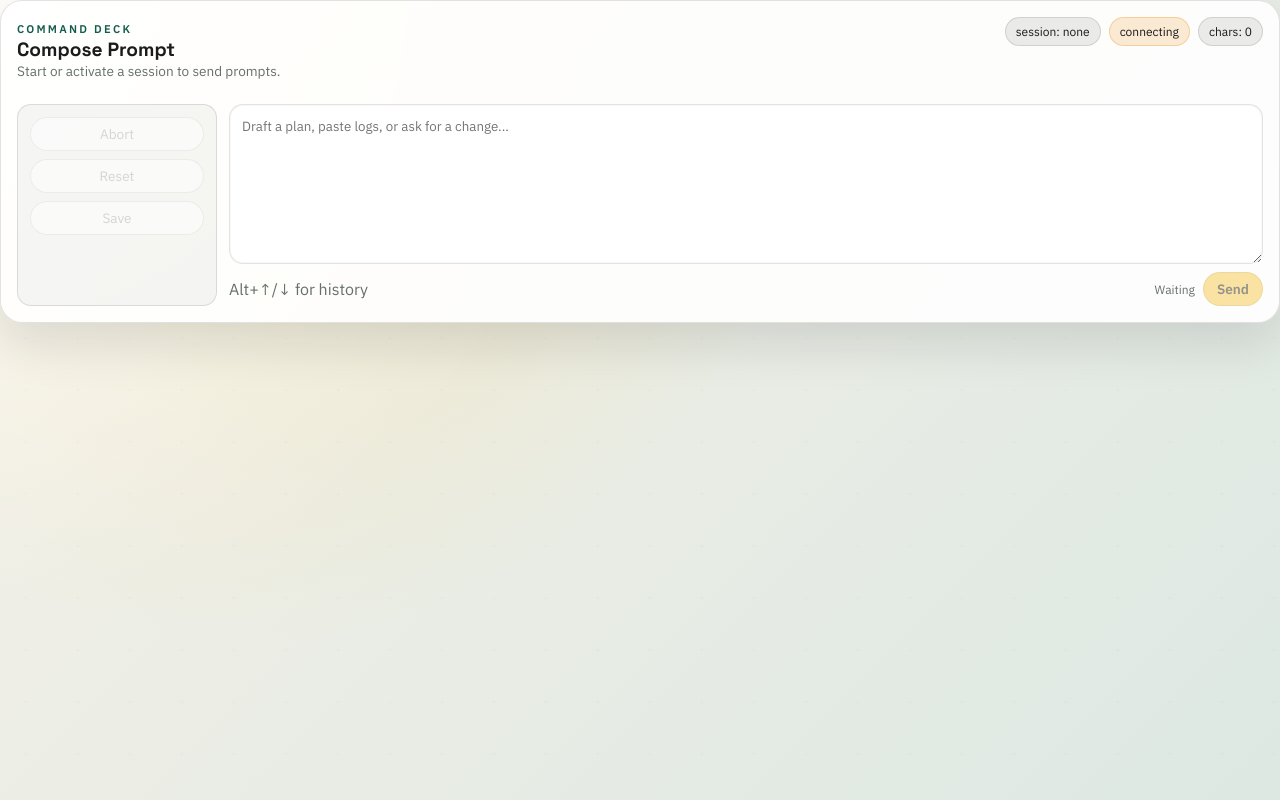
Test: Composer › text input handling › handles special characters in input
Click the text box with placeholder "Draft a plan, paste logs, or ask for a change..." at (746, 184), box [229, 104, 1263, 264]
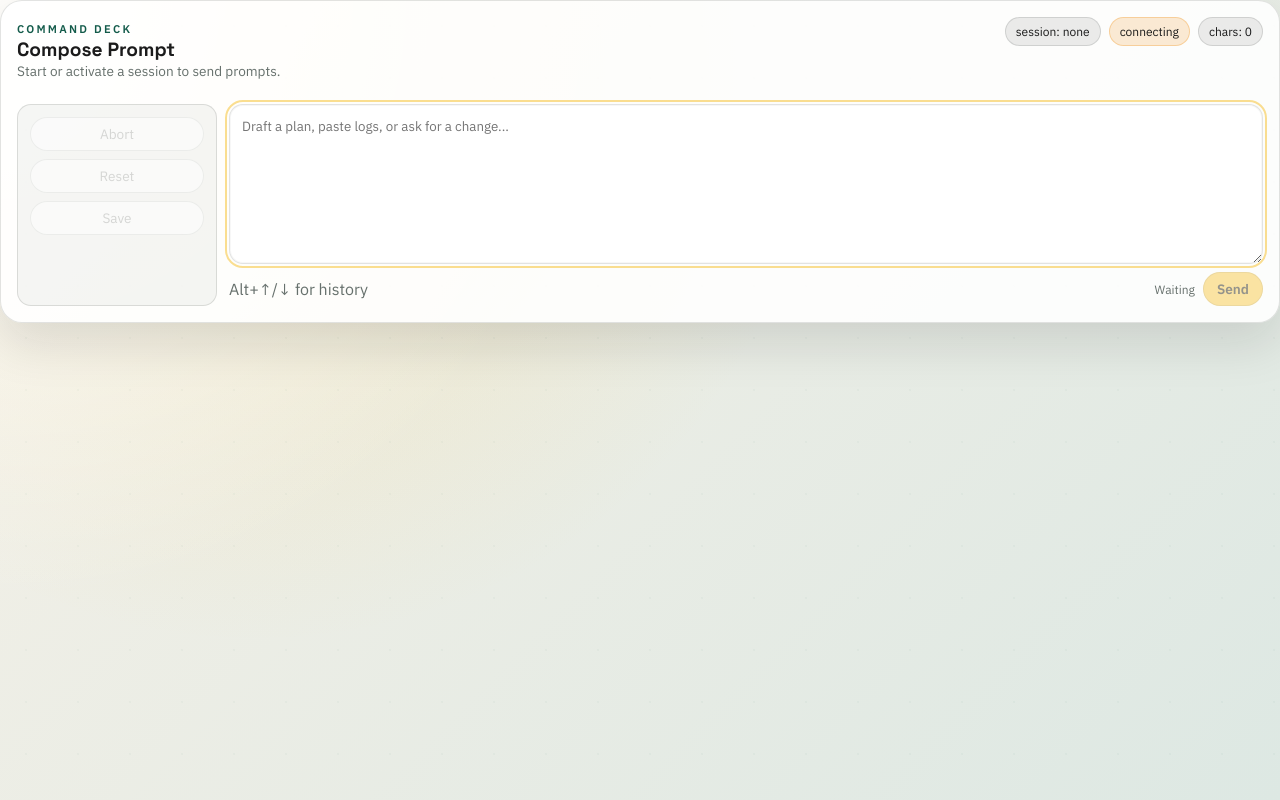
Type keys "const x = () => { return <div>Hello</div>; };"
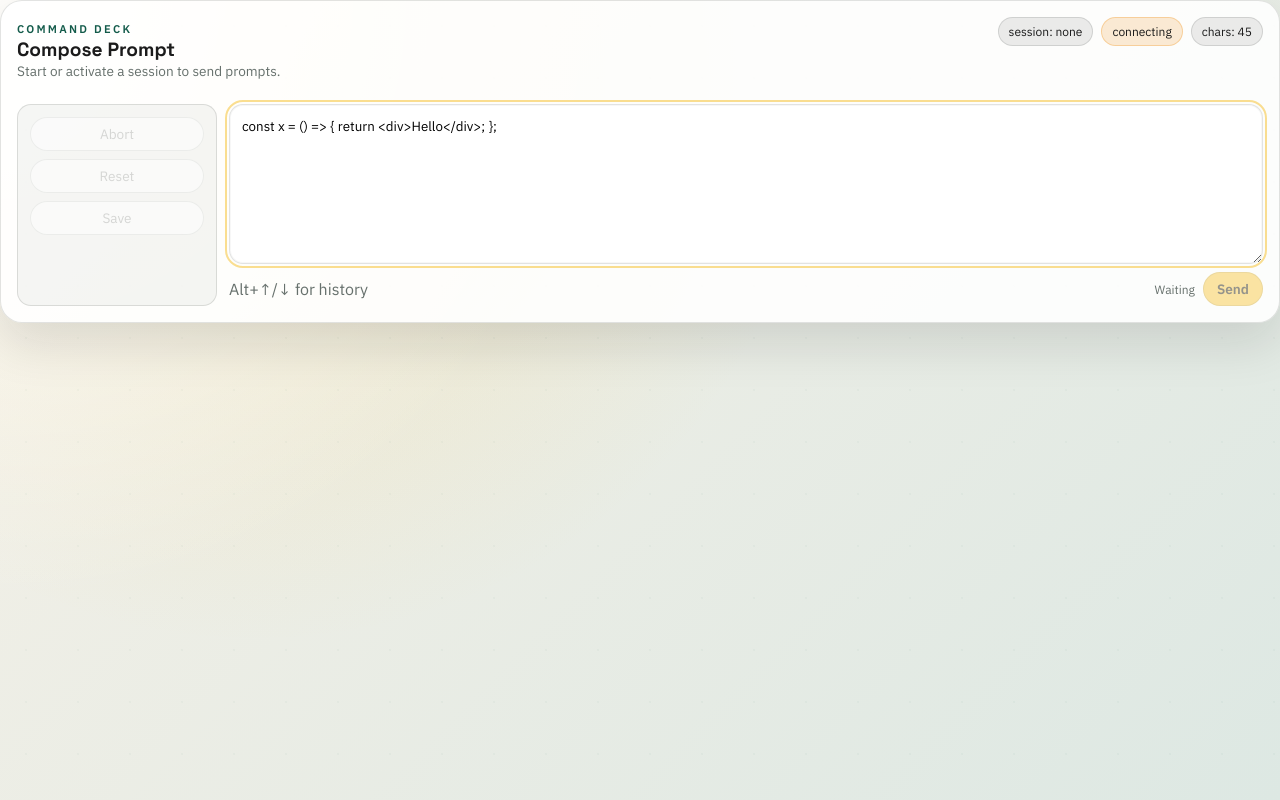
Expected: the text box with placeholder "Draft a plan, paste logs, or ask for a change..." holds "const x = () => { return <div>Hello</div>; };", [229, 104, 1263, 264]
